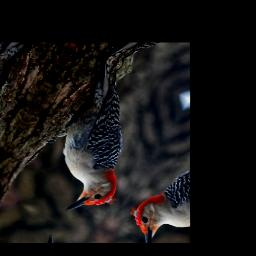Woodpecker: (18, 55, 182, 227)
